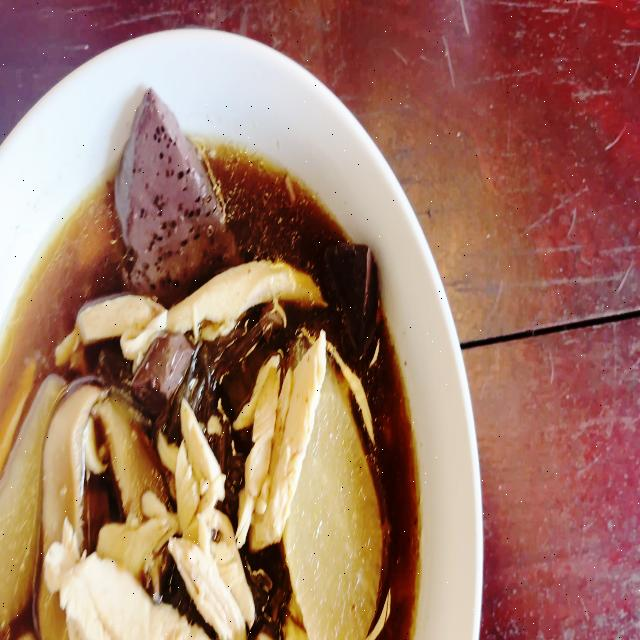boiled_chicken_blood_jelly: (112, 93, 226, 289), (335, 250, 380, 342), (139, 335, 186, 405)
chicken_shredded: (48, 419, 219, 640), (236, 337, 327, 546), (71, 288, 329, 330)
daikon_radish: (305, 428, 376, 622), (0, 373, 51, 595)
noodle: (0, 156, 415, 640)
